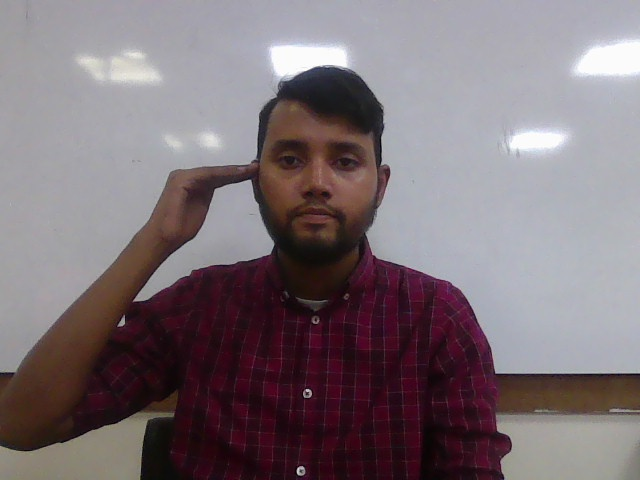Prottibondhi: (154, 163, 264, 245)
